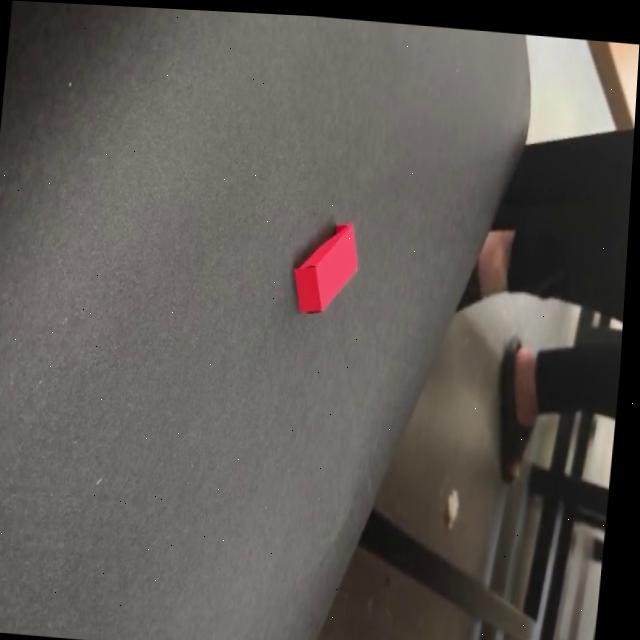red block: (289, 218, 363, 319)
